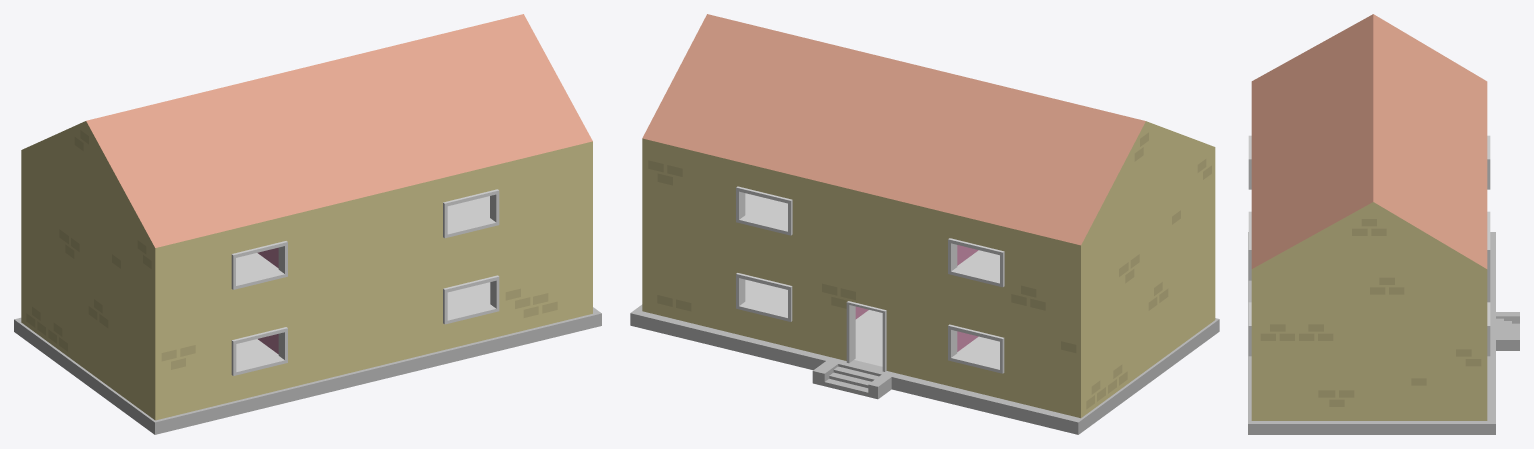
Rendered from Mansion.fbx.
3 views of the same model, side by side, from view 1: azimuth 30°, elevation 25°; view 2: azimuth 150°, elevation 25°; view 3: azimuth 270°, elevation 25° (orthographic). The views are drawn at different scales.
Parts seen in each view (by area): view 1: Mansion; view 2: Mansion; view 3: Mansion.
Boxes of the visible parts, <box> form: Mansion: <box>14,14,601,434</box>; Mansion: <box>630,14,1219,434</box>; Mansion: <box>1248,14,1519,434</box>.
Bounding box in the file's own units: 17.26 × 9.65 × 10.33.
